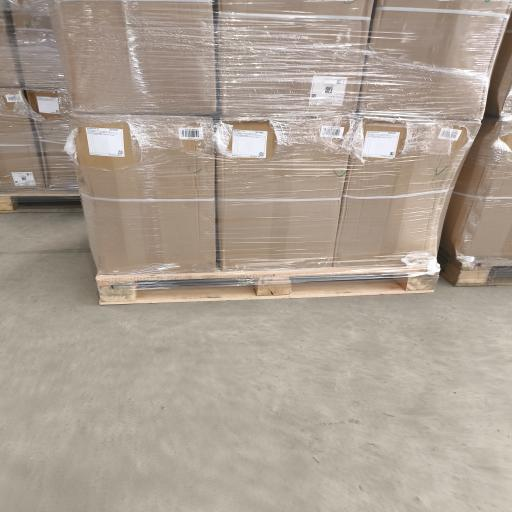pallet: (97, 267, 438, 304), (439, 250, 511, 286), (0, 191, 82, 213)
